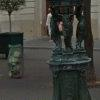Statue: (42, 4, 95, 66)
